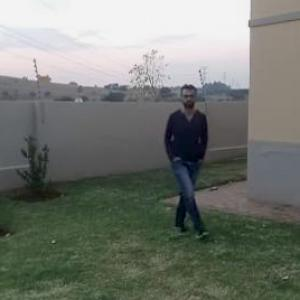follow: (163, 82, 213, 227)
